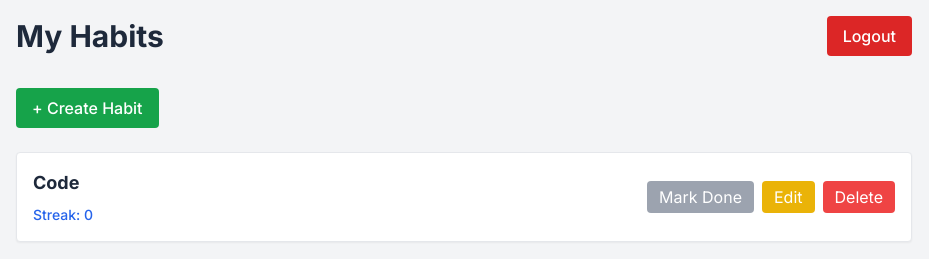
Test case: habit form › toggles completion and updates the streak display
Expected: the text with test id "habit-streak-code" shows "0", [84, 206, 93, 223]
Note: Toggle completion for today
Click the button with test id "habit-complete-code" at (701, 197), box [647, 181, 754, 213]
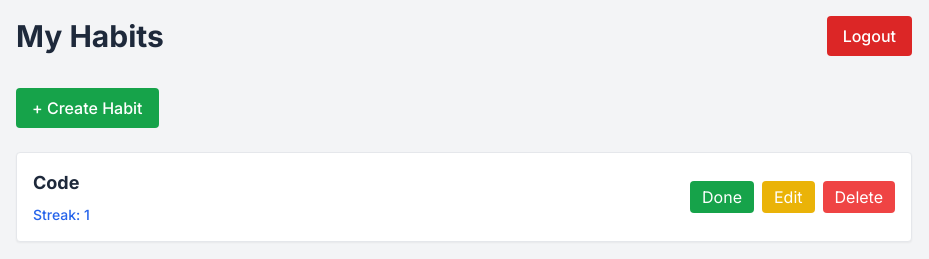
Result: the text with test id "habit-streak-code" shows "1" at [84, 206, 90, 223]
